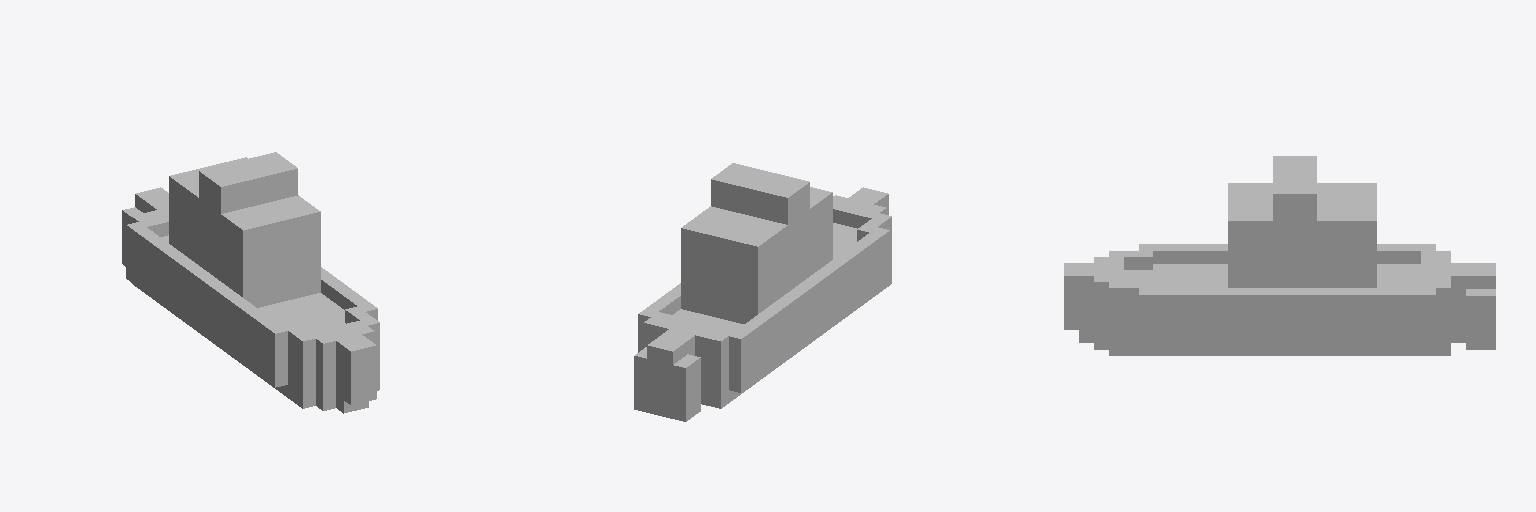
File: poliisivene.obj
3 renders of one model, left to right at view 1: azimuth 30°, elevation 25°; view 2: azimuth 150°, elevation 25°; view 3: azimuth 270°, elevation 25°, orthographic.
Size of the model in its own units: 8 by 12 by 29.